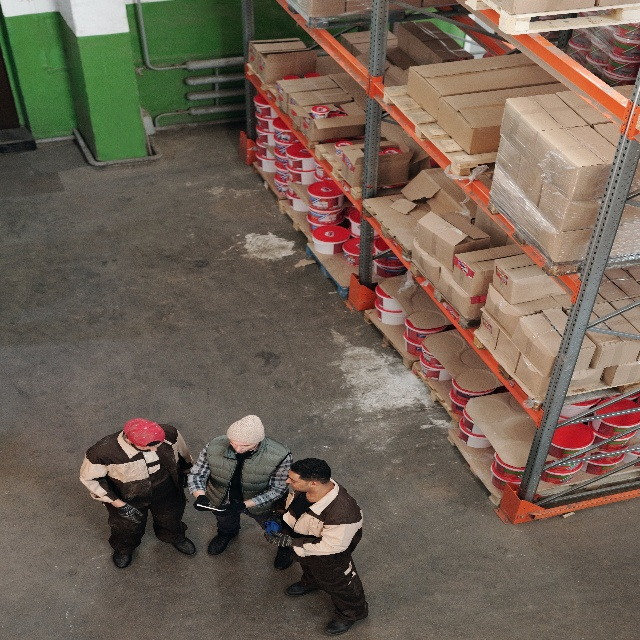Guantes: (116, 502, 144, 525), (211, 501, 246, 517), (263, 529, 293, 547), (261, 510, 283, 532), (193, 493, 212, 511), (183, 469, 192, 487)
